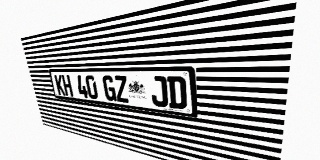0: (85, 75, 98, 99)
4: (76, 75, 89, 98)
D: (167, 76, 187, 110)
G: (102, 75, 117, 102)
H: (61, 75, 73, 96)
J: (150, 76, 168, 108)
K: (54, 75, 66, 96)
Z: (114, 76, 129, 103)
